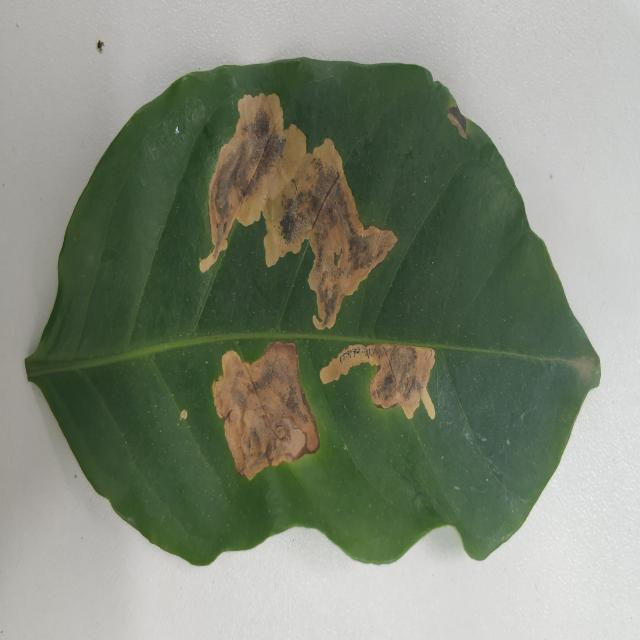Plaga-Minador: (23, 59, 602, 570)
